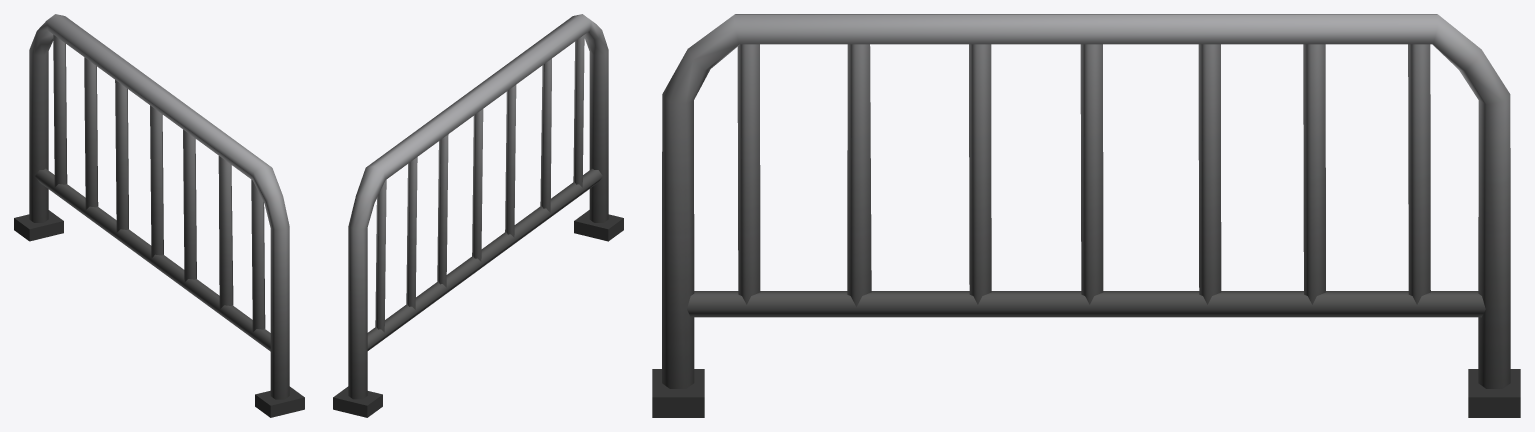
File: Barier_4_A.glb
3 views of the same model, side by side, from view 1: azimuth 30°, elevation 25°; view 2: azimuth 150°, elevation 25°; view 3: azimuth 270°, elevation 25° (orthographic). The views are drawn at different scales.
Parts seen in each view (by area): view 1: Barier_4_A; view 2: Barier_4_A; view 3: Barier_4_A.
Boxes of the visible parts, box(x1,y1,x2,y2) form: Barier_4_A: box(14, 14, 304, 417); Barier_4_A: box(333, 14, 623, 417); Barier_4_A: box(652, 14, 1520, 417).
Bounding box in the file's own units: 0.1574 × 1.01 × 2.04.
1 material, 1 textured.
